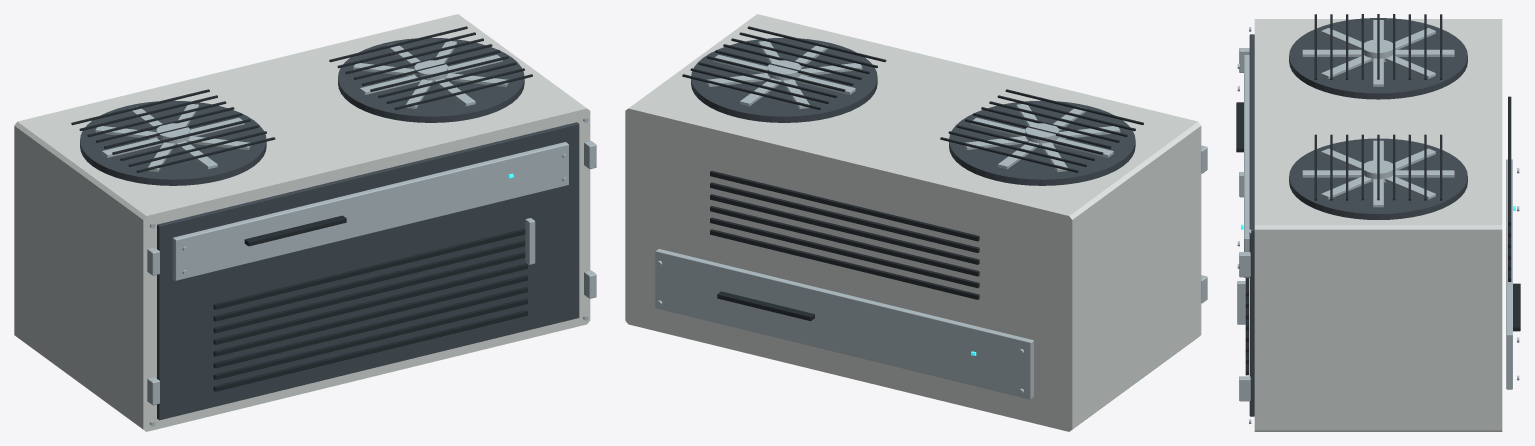
The model's file is data-centre-infiltration-kit-data-centre-infiltration--80f578b3__29237.glb.
The picture shows the model from 3 angles, left to right: view 1: azimuth 30°, elevation 25°; view 2: azimuth 150°, elevation 25°; view 3: azimuth 270°, elevation 25°; orthographic projection. The views are drawn at different scales.
Visible parts, largest first — view 1: data-centre-infiltration-kit-chiller; view 2: data-centre-infiltration-kit-chiller; view 3: data-centre-infiltration-kit-chiller.
Boxes of the visible parts, x1,y1,x2,y2 form: data-centre-infiltration-kit-chiller: (14,14,596,431); data-centre-infiltration-kit-chiller: (625,14,1207,431); data-centre-infiltration-kit-chiller: (1236,14,1520,431).
Size of the model in its own units: 2.6 by 1.29 by 1.49.
